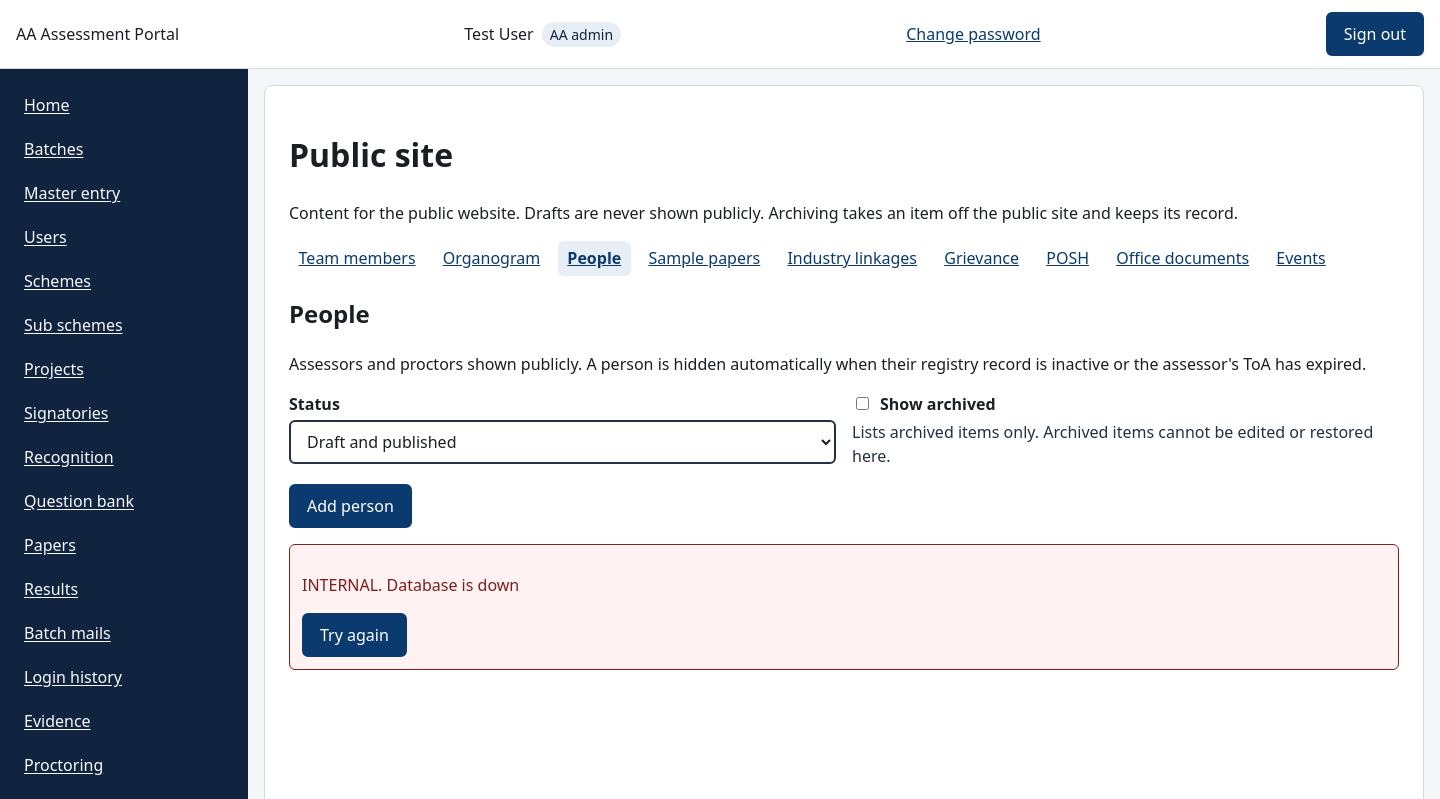
Test: shows a load error with a retry that recovers
Check: the message shows "Database is down", box [302,574,519,596]
Click the button "Try again".
click(354, 635)  # box [302,613,407,657]
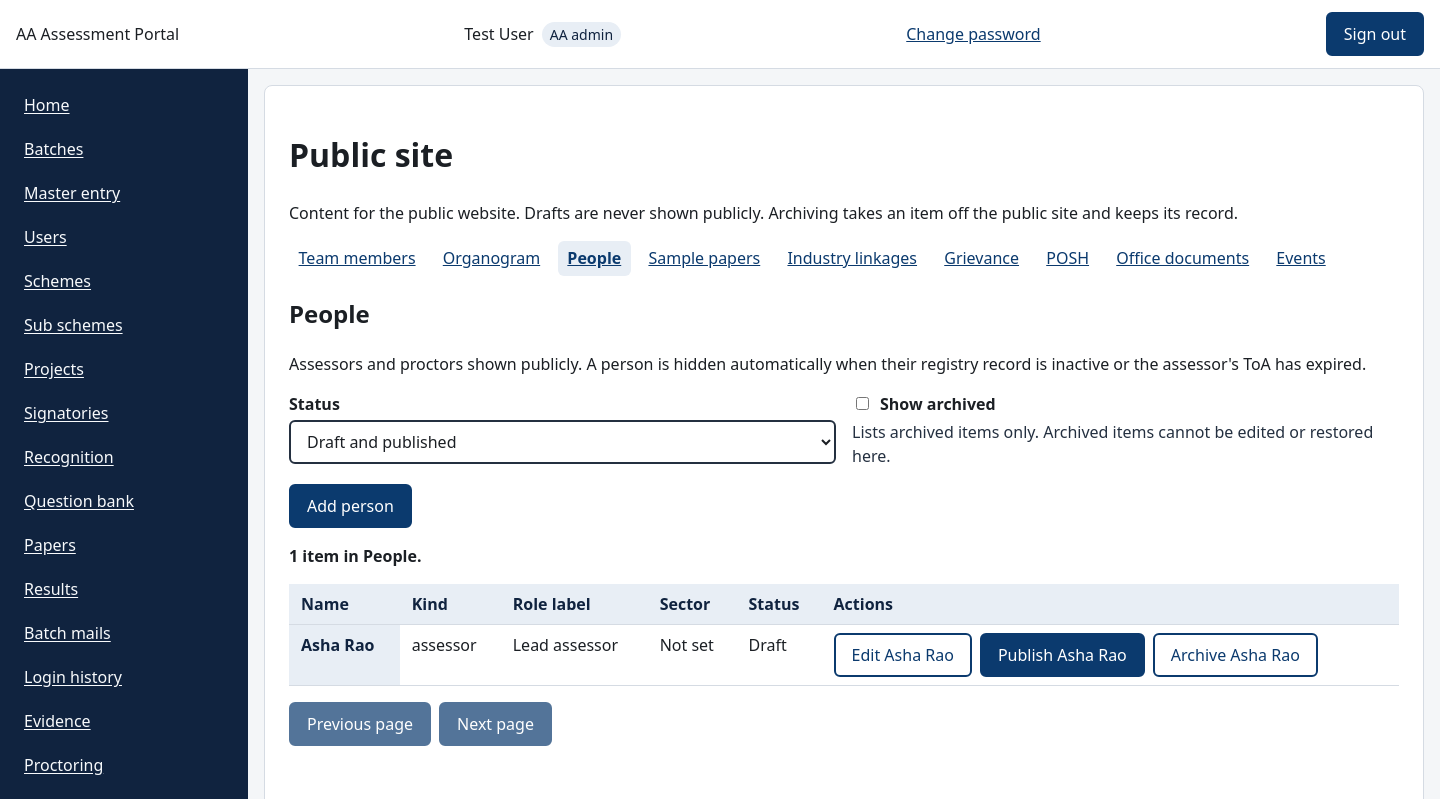
Check: the column heading "Asha Rao" is shown, box [289,625,400,686]
